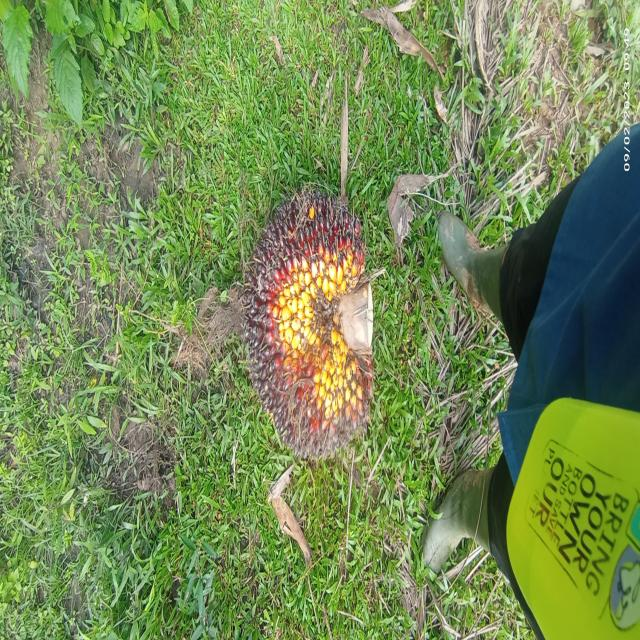fraksi 1: (228, 177, 408, 485)
